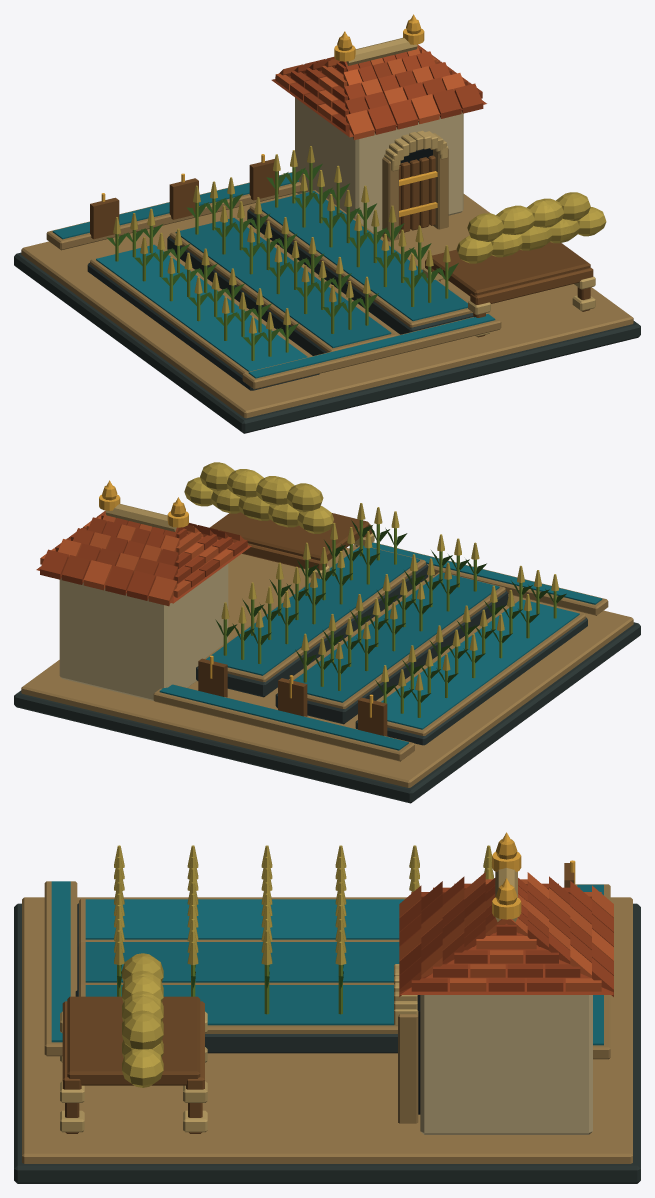
The picture shows the model from 3 angles, top to bottom: view 1: azimuth 30°, elevation 25°; view 2: azimuth 150°, elevation 25°; view 3: azimuth 270°, elevation 25°; orthographic projection. The views are drawn at different scales.
Parts seen in each view (by area): view 1: farm_4_structure, farm_4_metal; view 2: farm_4_structure, farm_4_metal; view 3: farm_4_structure, farm_4_metal.
Boxes of the visible parts, x1,y1,x2,y2 form: farm_4_structure: [14, 19, 640, 433]; farm_4_metal: [101, 14, 437, 217]; farm_4_structure: [14, 462, 640, 803]; farm_4_metal: [99, 480, 373, 717]; farm_4_structure: [14, 839, 640, 1183]; farm_4_metal: [492, 832, 575, 919].
Size of the model in its own units: 5.6 by 2.65 by 5.46.
